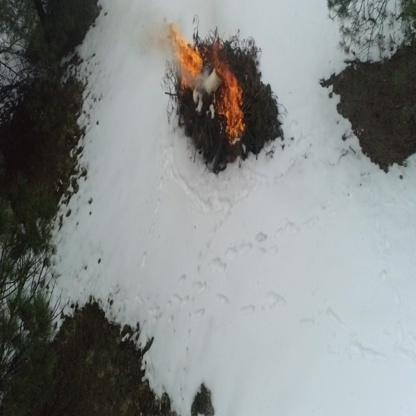Fire: (224, 79, 240, 143), (218, 96, 245, 116), (182, 50, 199, 74), (216, 44, 224, 74), (224, 63, 236, 83), (234, 121, 245, 133), (176, 36, 185, 49), (180, 81, 194, 89)
